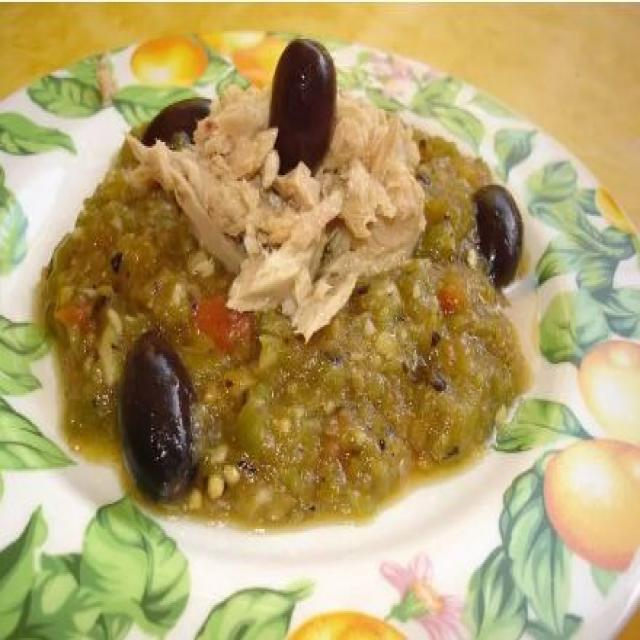Salade mechweya: (51, 38, 550, 569)
